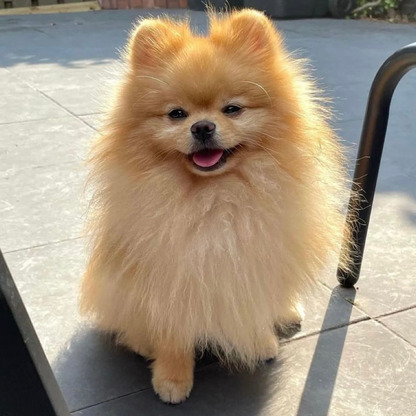Pomeranian: (85, 11, 368, 399)
